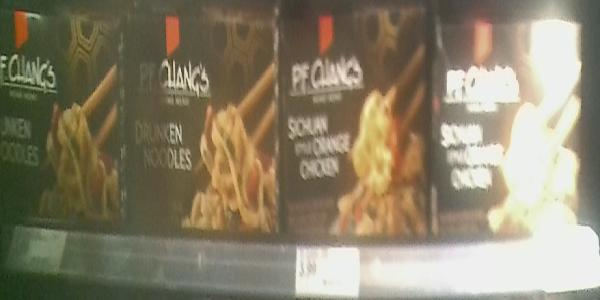pizza1: (125, 6, 284, 235), (434, 12, 588, 243), (285, 8, 432, 236), (1, 12, 128, 229)
